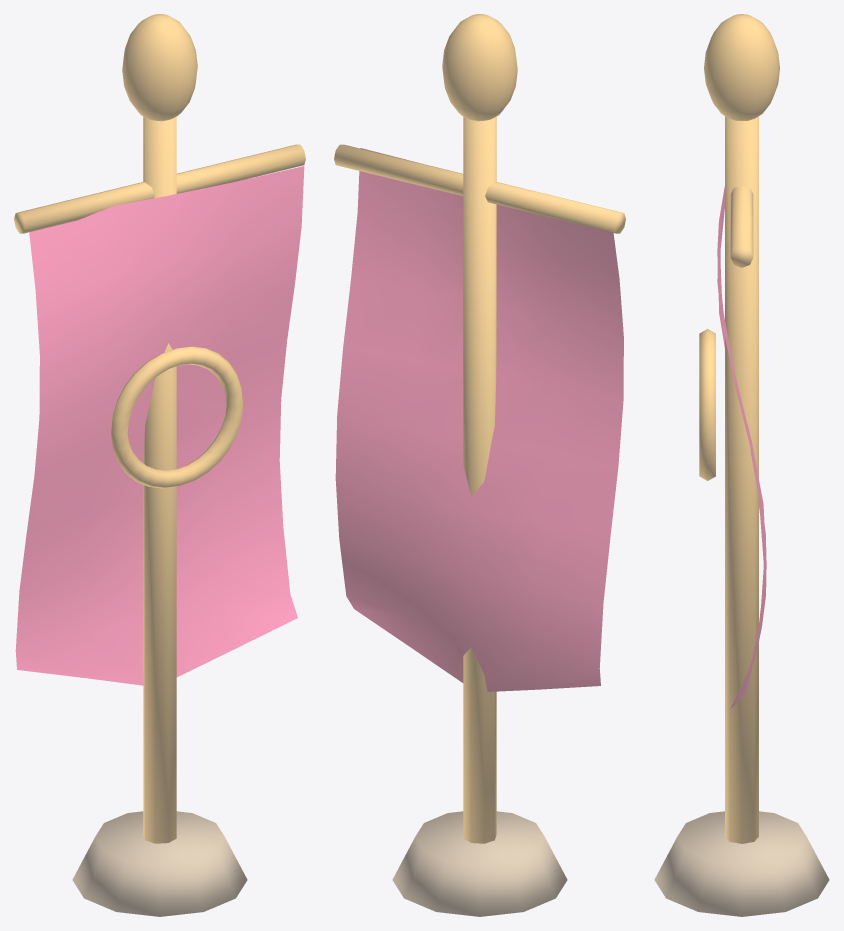
The model's file is castle_detail_banner_purified.glb.
3 views of the same model, side by side, from view 1: azimuth 30°, elevation 25°; view 2: azimuth 150°, elevation 25°; view 3: azimuth 270°, elevation 25° (orthographic).
Parts seen in each view (by area): view 1: castle_detail_banner_purified_surface; view 2: castle_detail_banner_purified_surface; view 3: castle_detail_banner_purified_surface.
Boxes of the visible parts, <box> form: castle_detail_banner_purified_surface: <box>14,14,305,916</box>; castle_detail_banner_purified_surface: <box>334,14,625,916</box>; castle_detail_banner_purified_surface: <box>654,14,829,916</box>.
Bounding box in the file's own units: 1.7 × 5 × 0.92.
